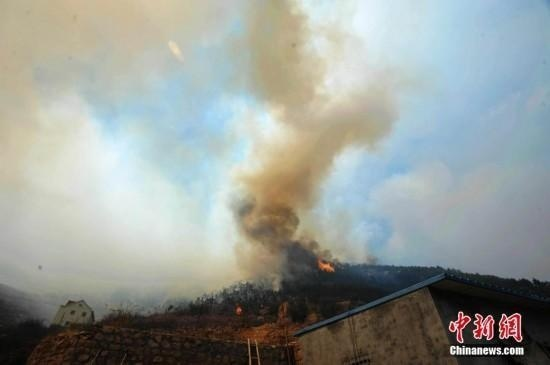fire: (315, 256, 334, 273), (232, 301, 244, 314)
